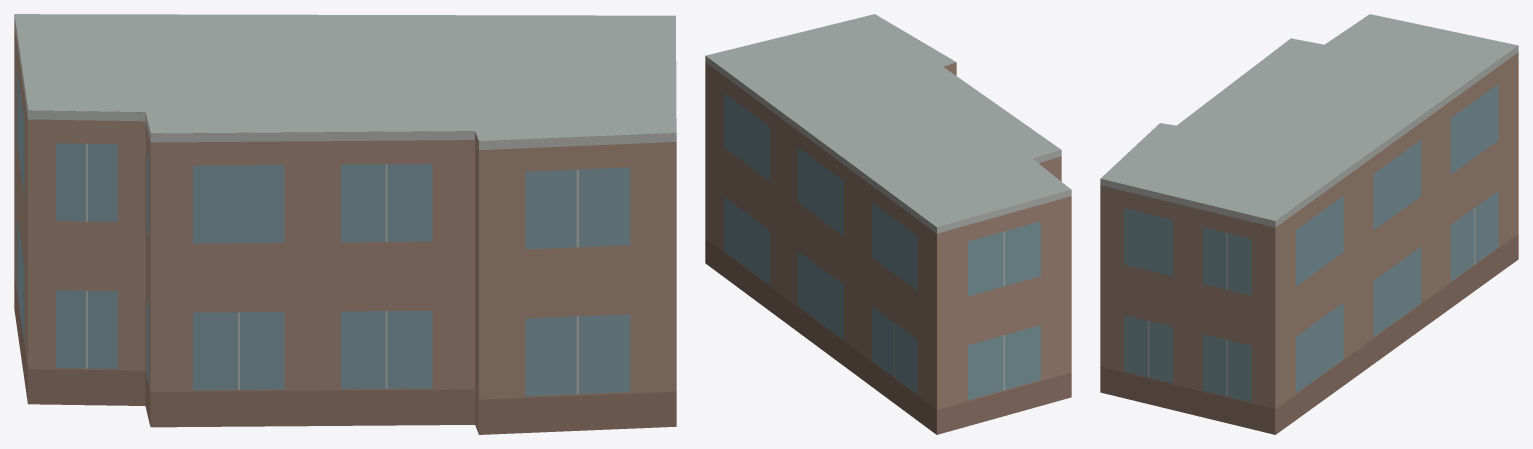
File: survey-upis-32939949.glb
The picture shows the model from 3 angles, left to right: view 1: azimuth 30°, elevation 25°; view 2: azimuth 150°, elevation 25°; view 3: azimuth 270°, elevation 25°; orthographic projection. The views are drawn at different scales.
Visible parts, largest first — view 1: survey-upis-32939949.tmp; view 2: survey-upis-32939949.tmp; view 3: survey-upis-32939949.tmp.
Part boxes in pixels (x1,y1,x2,y2): survey-upis-32939949.tmp: [14, 14, 676, 434]; survey-upis-32939949.tmp: [705, 14, 1071, 434]; survey-upis-32939949.tmp: [1100, 14, 1518, 434].
Bounding box in the file's own units: 16.42 × 7.9 × 14.01.
